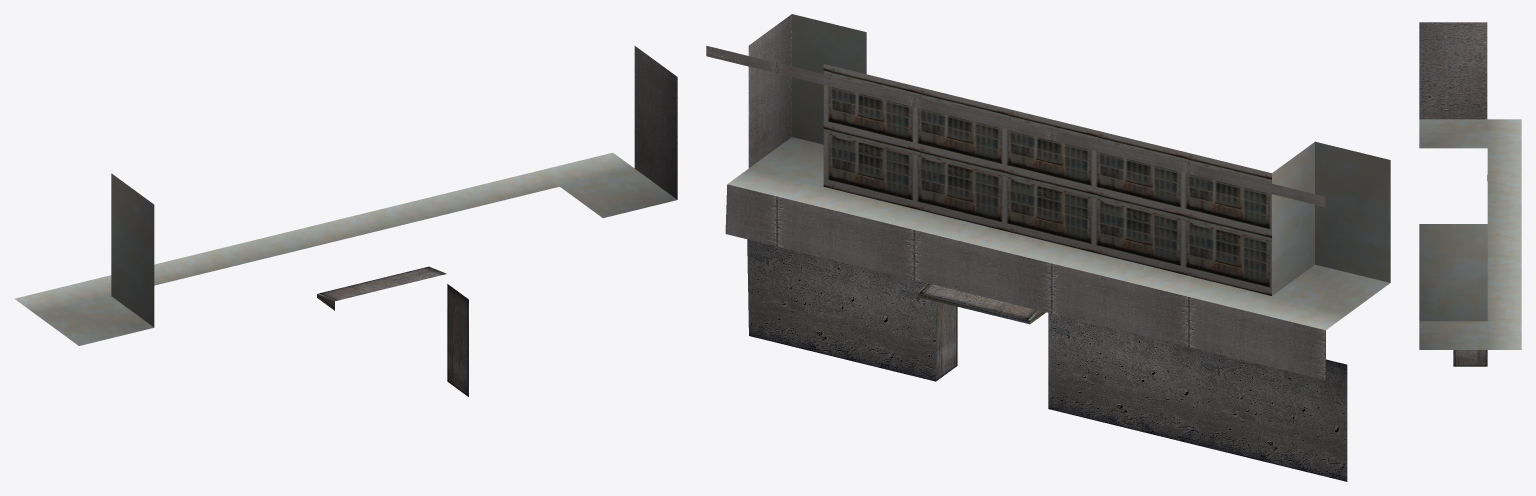
Rendered from M10_Z01_19_TowerB.glb.
3 views of the same model, side by side, from view 1: azimuth 30°, elevation 25°; view 2: azimuth 150°, elevation 25°; view 3: azimuth 270°, elevation 25° (orthographic). The views are drawn at different scales.
Visible parts, largest first — view 1: M10_Z01_19_TOWERB; view 2: M10_Z01_19_TOWERB; view 3: M10_Z01_19_TOWERB.
Part boxes in pixels (x1,y1,x2,y2): M10_Z01_19_TOWERB: (14,46,677,396); M10_Z01_19_TOWERB: (706,14,1390,481); M10_Z01_19_TOWERB: (1419,22,1521,366).
Size of the model in its own units: 16.56 by 7.69 by 3.
5 materials, 5 textured.
